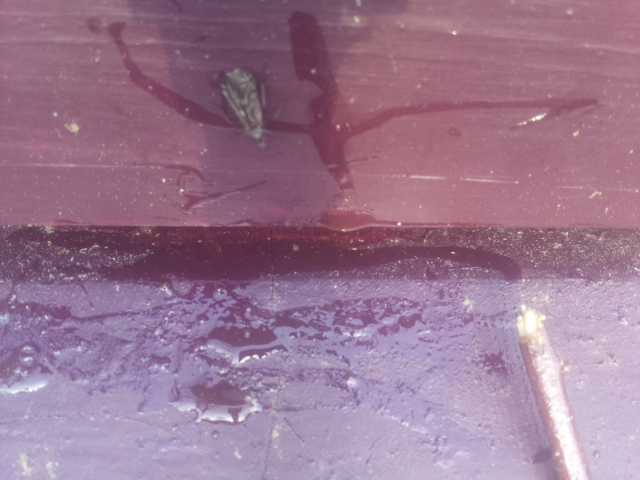ant: (209, 59, 279, 152), (0, 343, 46, 388)
